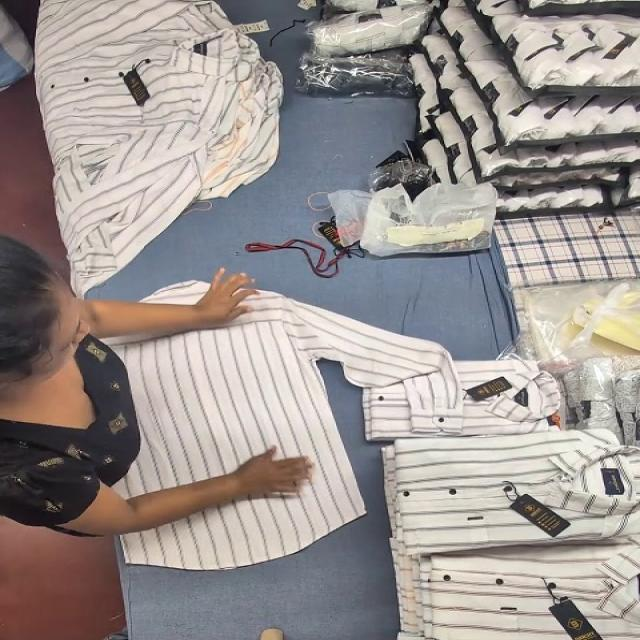new-garment: (108, 292, 461, 569), (144, 281, 207, 304)
